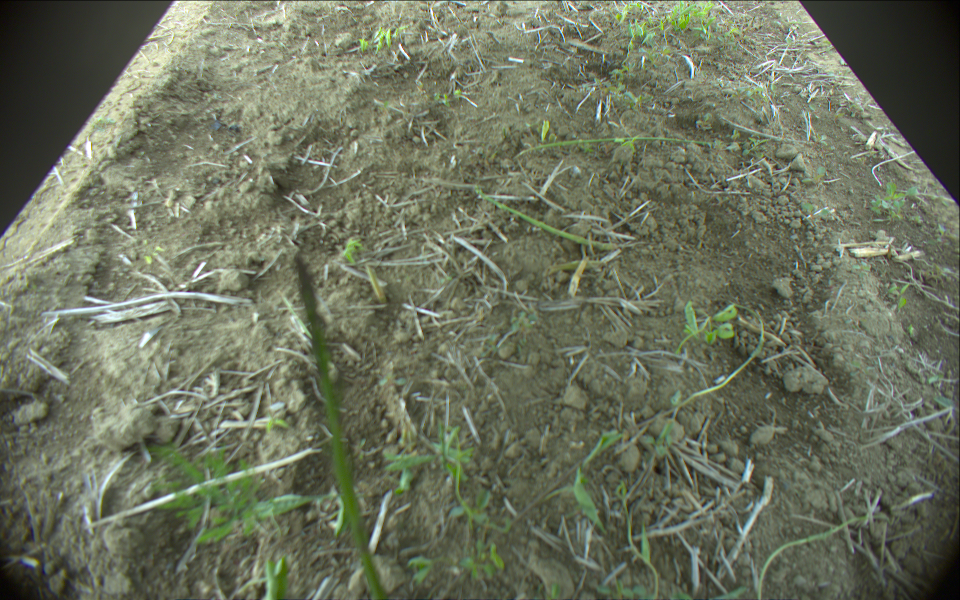aspa: (288, 255, 390, 600), (469, 184, 624, 253), (516, 133, 727, 165), (360, 261, 393, 307)
